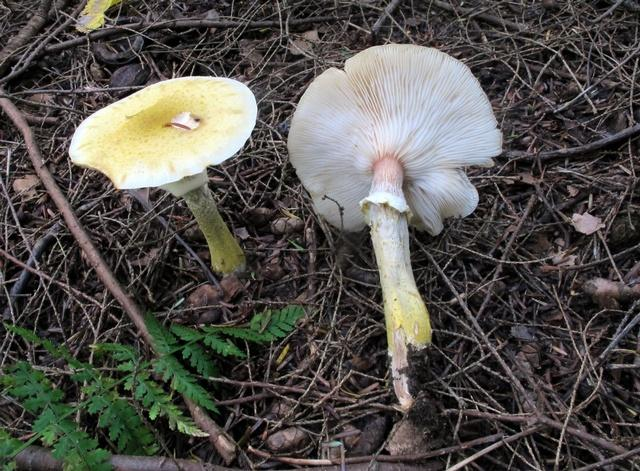Edible Mushroom: (286, 41, 503, 410), (67, 74, 257, 279)
